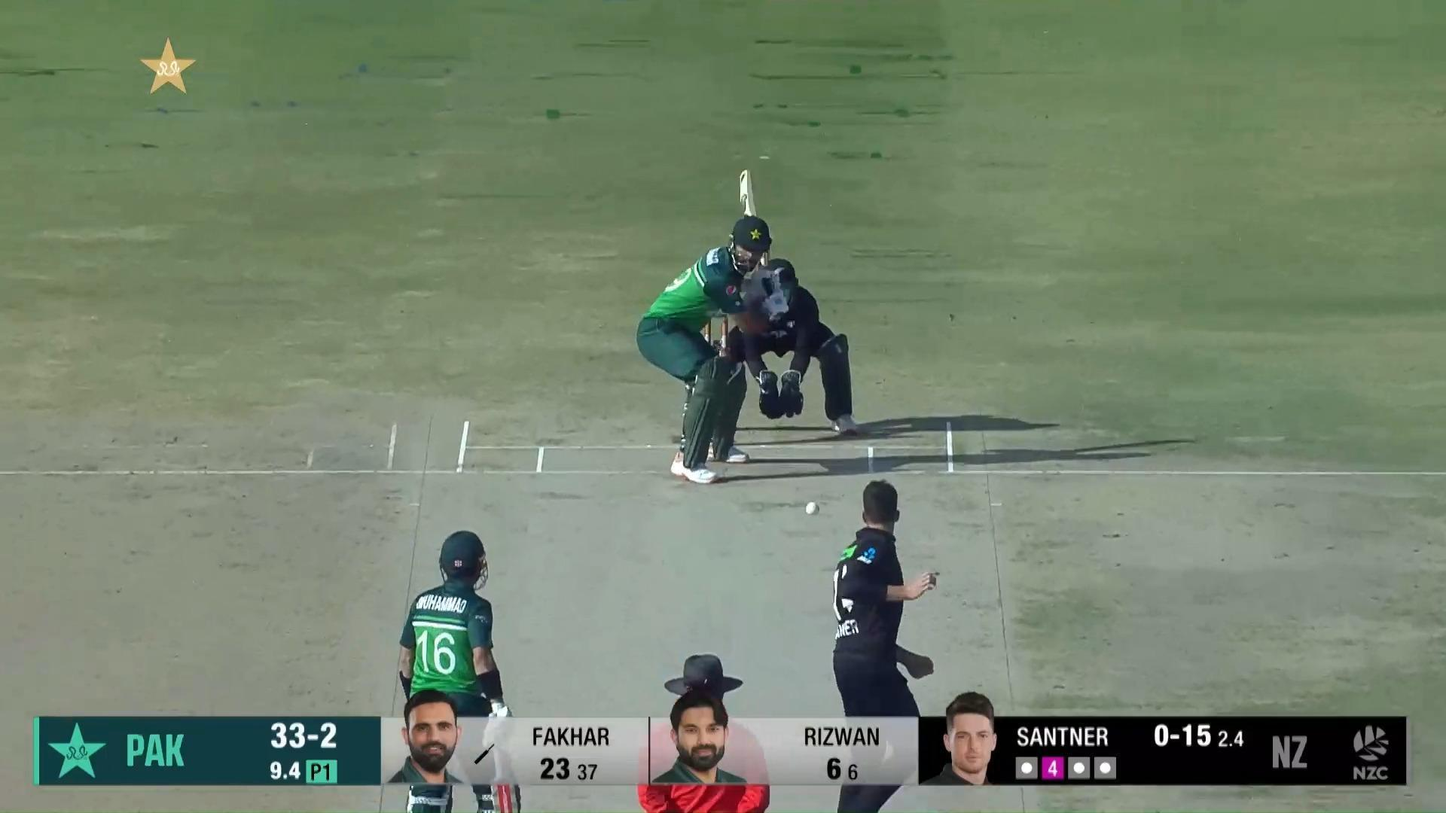BM 1: (634, 166, 792, 487)
BO: (828, 479, 944, 813)
